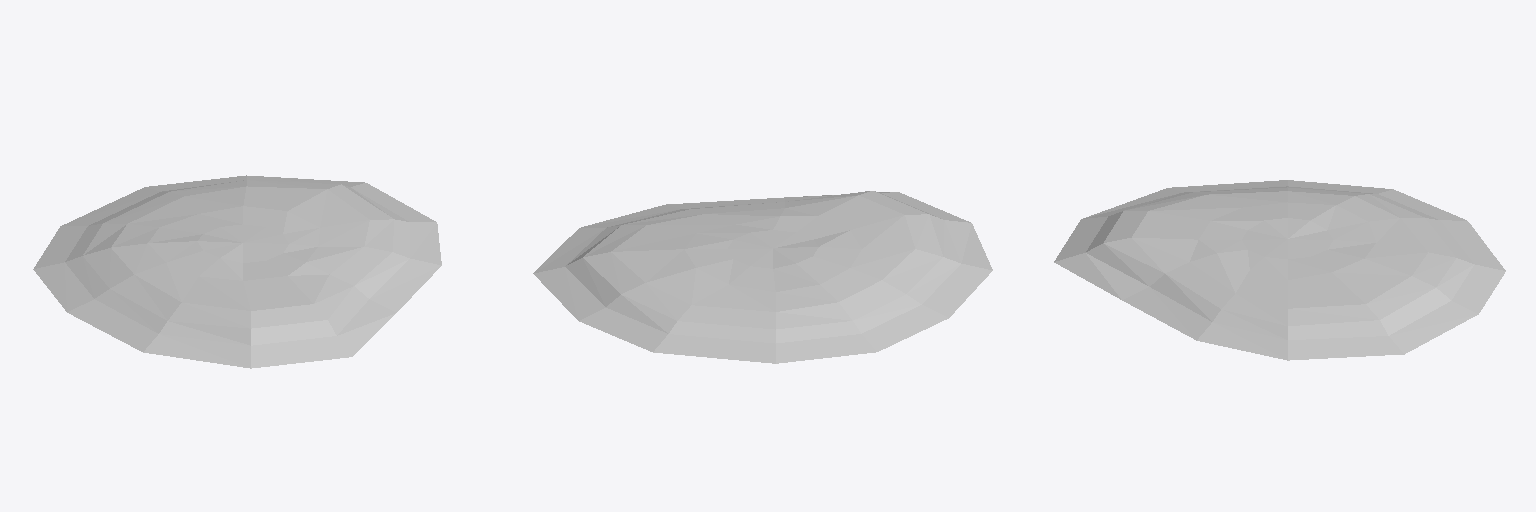
Rendered from island.obj.
The picture shows the model from 3 angles: view 1: azimuth 30°, elevation 25°; view 2: azimuth 150°, elevation 25°; view 3: azimuth 270°, elevation 25°; orthographic projection.
Parts seen in each view (by area): view 1: island_Sphere.005; view 2: island_Sphere.005; view 3: island_Sphere.005.
Boxes of the visible parts, x1,y1,x2,y2 form: island_Sphere.005: [33, 175, 441, 368]; island_Sphere.005: [533, 191, 992, 363]; island_Sphere.005: [1054, 180, 1505, 360].
Size of the model in its own units: 14.45 by 1.07 by 15.3.